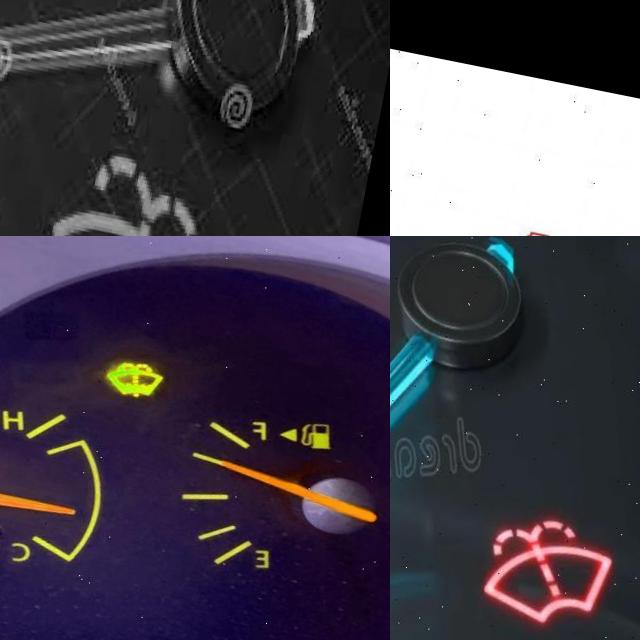Washer Fluid: (40, 129, 255, 236), (497, 490, 632, 610), (108, 341, 181, 393)
